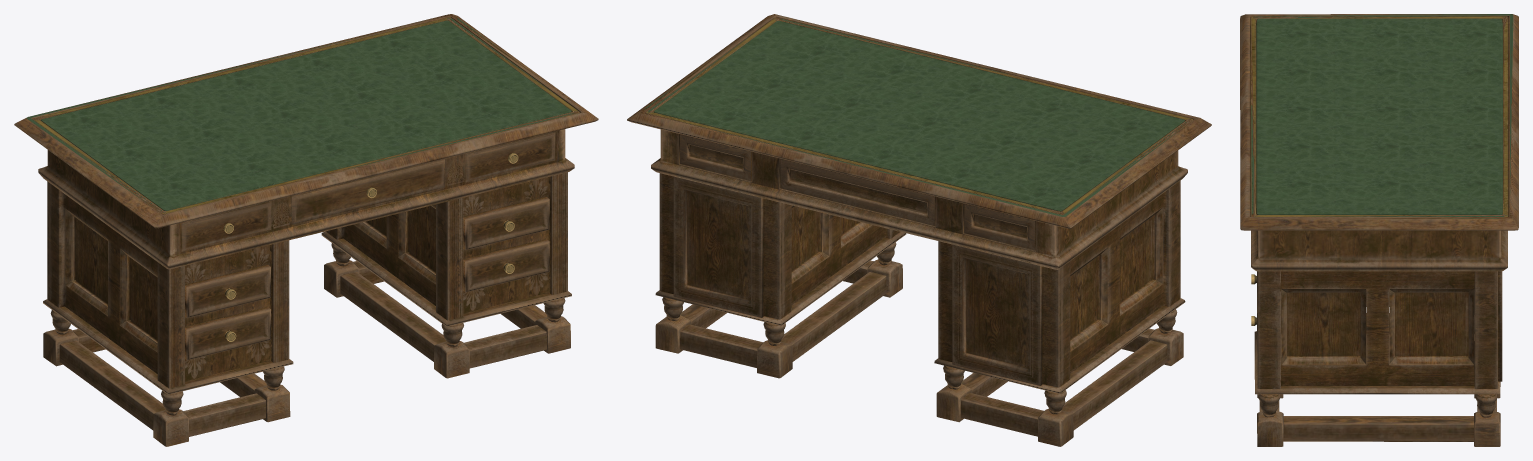
The model's file is LP_Desk.fbx.
3 renders of one model, left to right at view 1: azimuth 30°, elevation 25°; view 2: azimuth 150°, elevation 25°; view 3: azimuth 270°, elevation 25°, orthographic.
Parts seen in each view (by area): view 1: Desk, Draw; view 2: Desk; view 3: Desk.
Part boxes in pixels (bbox=[...]): Desk: bbox=[14, 14, 598, 446]; Draw: bbox=[254, 147, 444, 224]; Desk: bbox=[627, 14, 1211, 446]; Desk: bbox=[1240, 14, 1518, 446].
Size of the model in its own units: 1.73 by 0.881 by 0.9544.
1 material, 1 textured.
